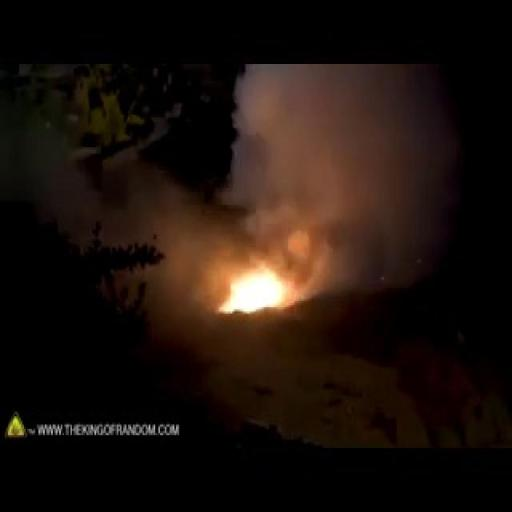smoke: (209, 210, 324, 319)
